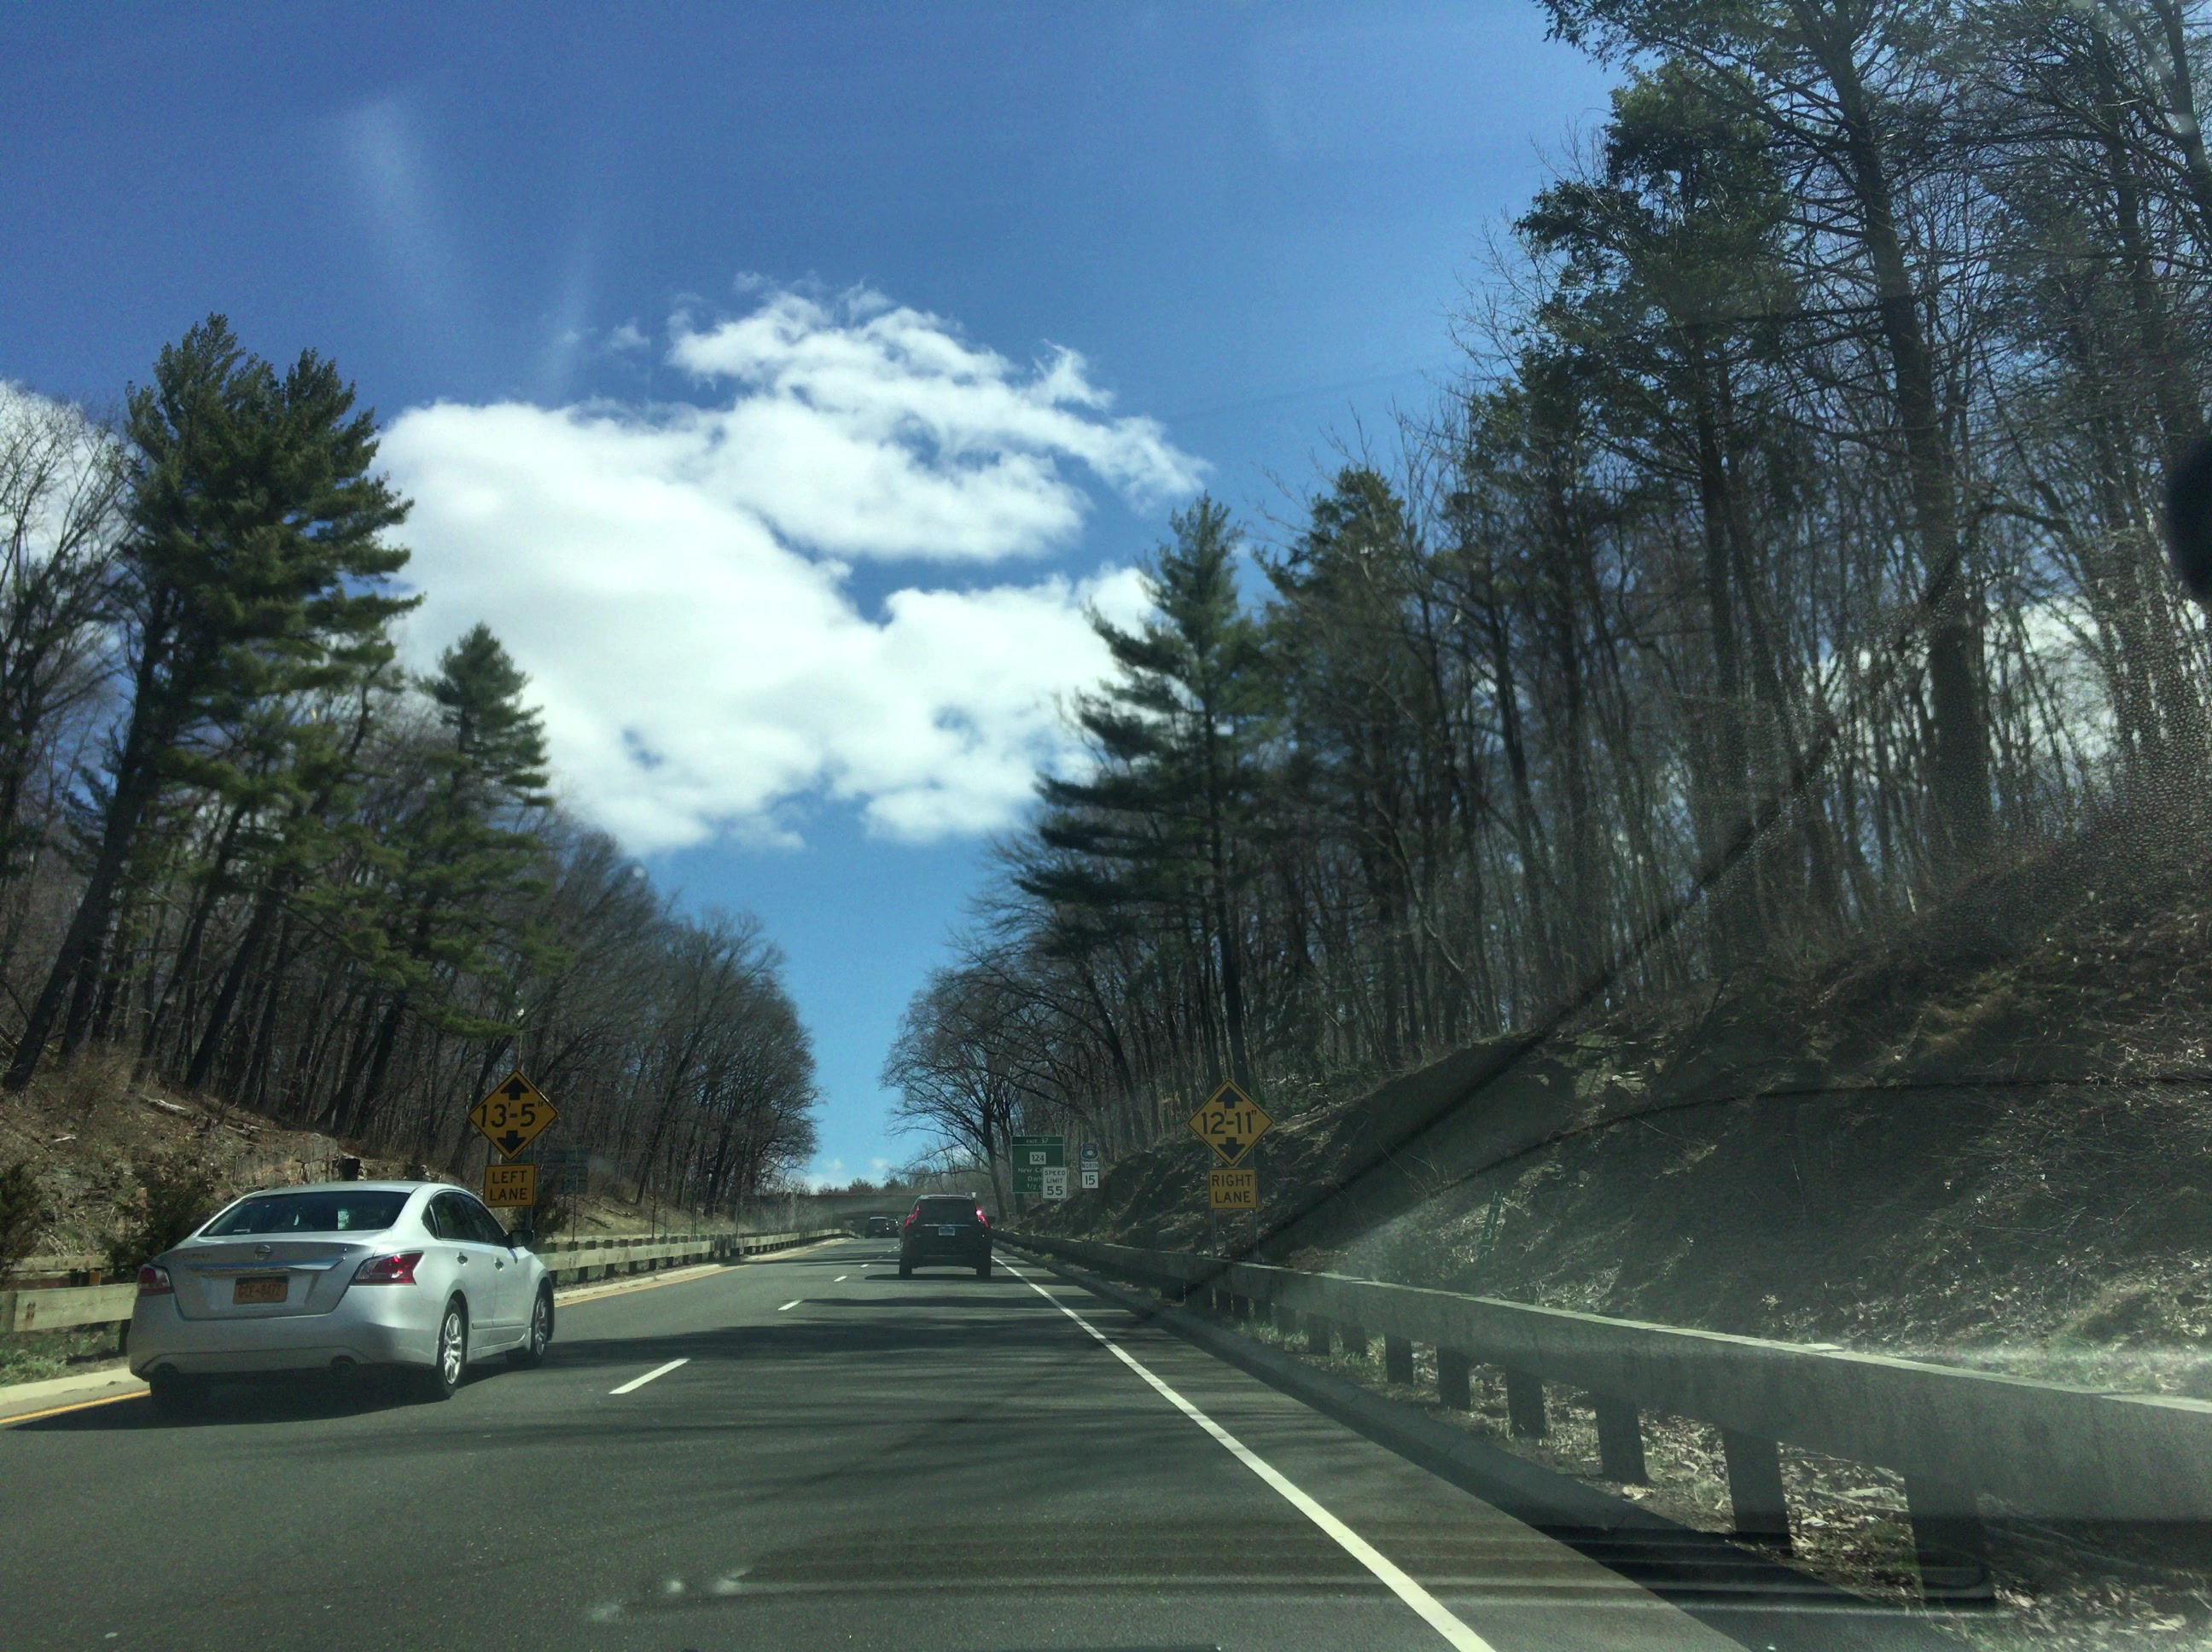low-clearance-sign: (467, 1069, 560, 1163), (1185, 1078, 1275, 1168)
